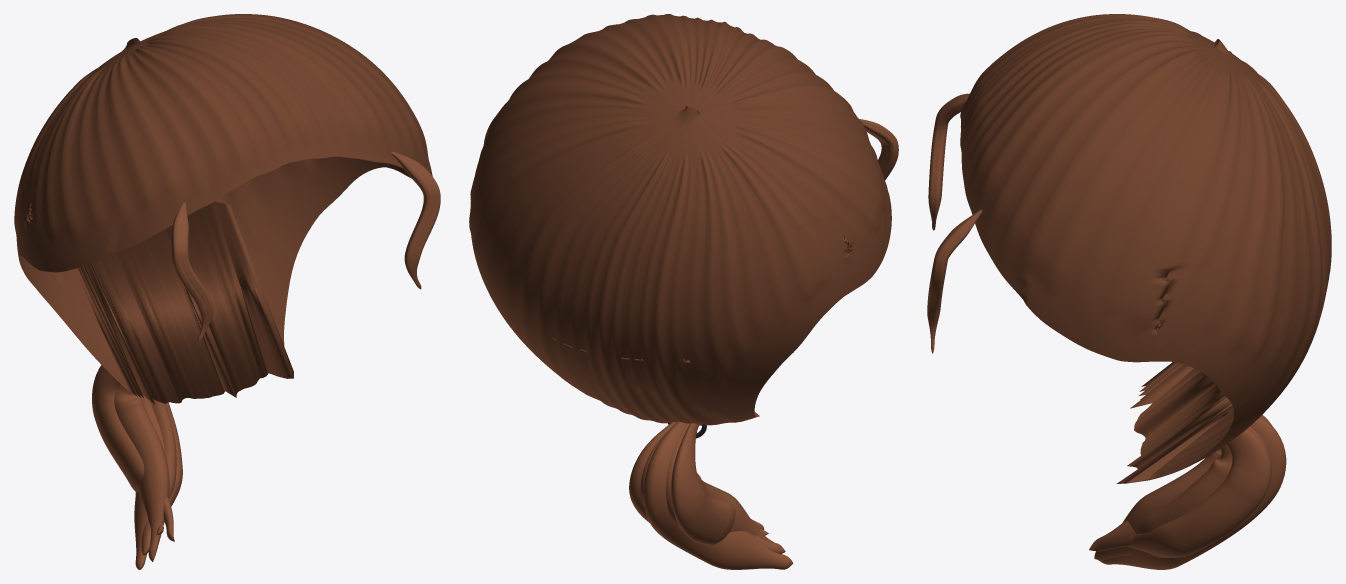
The model's file is Feminine-ponytail-open-pashmina250-hair.glb.
3 views of the same model, side by side, from view 1: azimuth 30°, elevation 25°; view 2: azimuth 150°, elevation 25°; view 3: azimuth 270°, elevation 25° (orthographic). The views are drawn at different scales.
Visible parts, largest first — view 1: 226 hair / Hair / crisp pulled roots220.002, 226 hair / Hair / chestnut212 0.001, 226 hair / Hair / chestnut212 1.001, 226 hair / Hair / sculpted front locks222.002, 226 hair / Hair / chestnut212 2.001; view 2: 226 hair / Hair / crisp pulled roots220.002, 226 hair / Hair / chestnut212 2.001, 226 hair / Hair / chestnut212 1.001, 226 hair / Hair / chestnut212 0.001, 226 hair / Hair / sculpted front locks222.002; view 3: 226 hair / Hair / crisp pulled roots220.002, 226 hair / Hair / chestnut212 0.001, 226 hair / Hair / sculpted front locks222.002, 226 hair / Hair / chestnut212 1.001, 226 hair / Hair / chestnut212 2.001.
Boxes of the visible parts, x1,y1,x2,y2 form: 226 hair / Hair / crisp pulled roots220.002: [14, 14, 432, 404]; 226 hair / Hair / chestnut212 0.001: [114, 384, 182, 561]; 226 hair / Hair / chestnut212 1.001: [92, 365, 176, 555]; 226 hair / Hair / sculpted front locks222.002: [171, 151, 440, 342]; 226 hair / Hair / chestnut212 2.001: [134, 395, 164, 569]; 226 hair / Hair / crisp pulled roots220.002: [469, 14, 891, 425]; 226 hair / Hair / chestnut212 2.001: [643, 421, 793, 569]; 226 hair / Hair / chestnut212 1.001: [640, 422, 785, 553]; 226 hair / Hair / chestnut212 0.001: [629, 422, 774, 542]; 226 hair / Hair / sculpted front locks222.002: [859, 119, 898, 180]; 226 hair / Hair / crisp pulled roots220.002: [960, 14, 1331, 483]; 226 hair / Hair / chestnut212 0.001: [1094, 428, 1271, 560]; 226 hair / Hair / sculpted front locks222.002: [927, 93, 982, 353]; 226 hair / Hair / chestnut212 1.001: [1089, 415, 1271, 557]; 226 hair / Hair / chestnut212 2.001: [1098, 416, 1286, 569].
Bounding box in the file's own units: 0.9757 × 1.27 × 0.8059.
